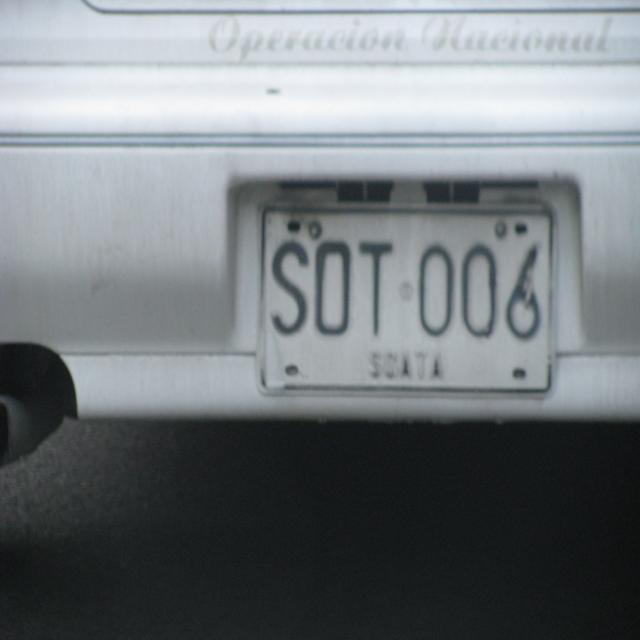placa: (254, 198, 556, 400)
